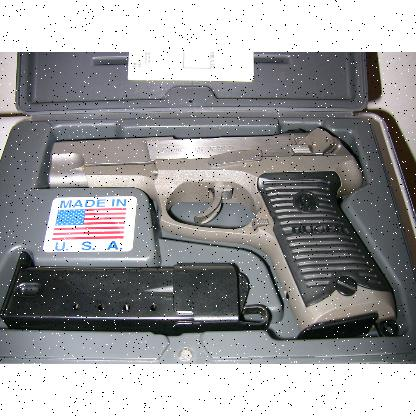gun: (49, 126, 397, 336)
